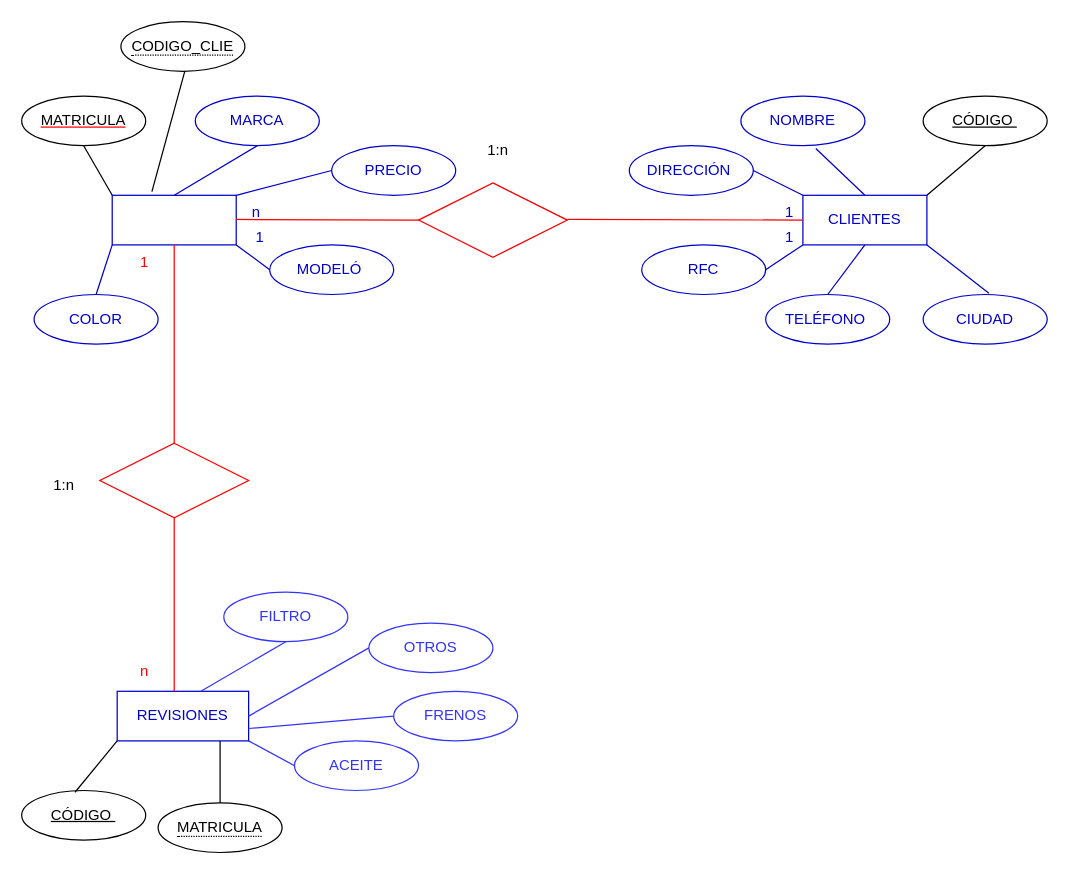
The diagram is 1069 pixels wide and 874 high, and some of its shapes have lost their labels. Each missing label, with the box of its shape:
AUTOMÓVILES: (111, 194, 236, 245)
COMPRA: (417, 182, 567, 257)
LLEVAR: (99, 442, 249, 518)
